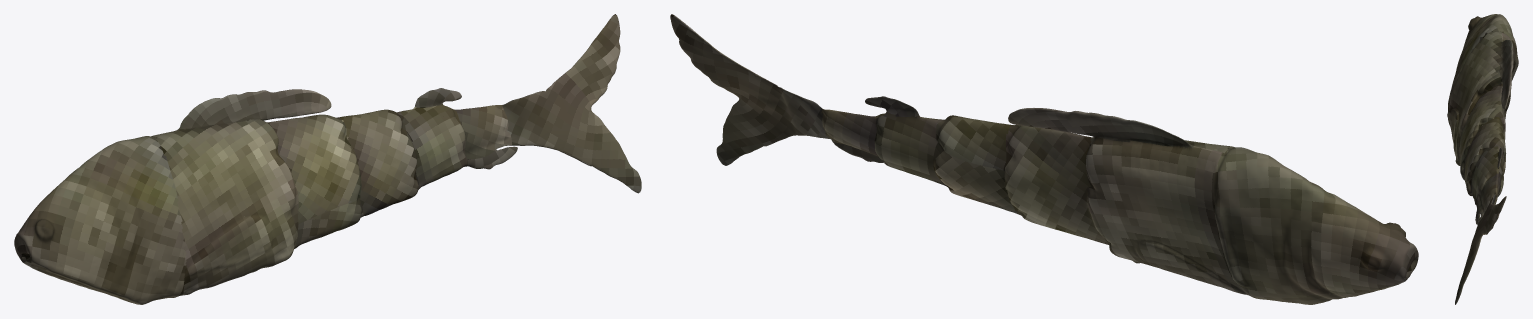
File: fish-box.glb
3 renders of one model, left to right at view 1: azimuth 30°, elevation 25°; view 2: azimuth 150°, elevation 25°; view 3: azimuth 270°, elevation 25°, orthographic. The views are drawn at different scales.
Visible parts, largest first — view 1: Object_3, Object_4; view 2: Object_3, Object_4; view 3: Object_3, Object_4.
Boxes of the visible parts, left/top/right/bottom form: Object_3: left=14, top=14, right=641, bottom=304; Object_4: left=18, top=78, right=618, bottom=298; Object_3: left=670, top=14, right=1418, bottom=304; Object_4: left=722, top=92, right=1416, bottom=301; Object_3: left=1447, top=14, right=1518, bottom=304; Object_4: left=1448, top=14, right=1517, bottom=282.
Bounding box in the file's own units: 0.4325 × 0.1084 × 0.0587.
Materials: 1 (1 with a texture image).
